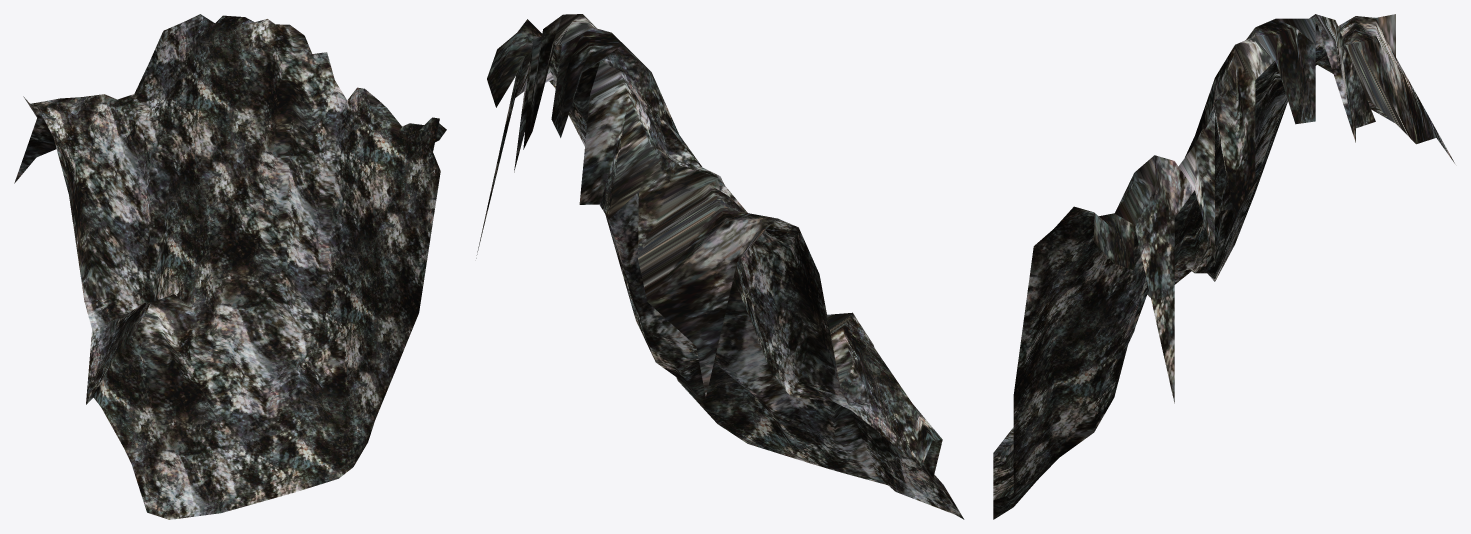
Rendered from OVERHILL_A_01_OBJECT11.fbx.
The picture shows the model from 3 angles, left to right: view 1: azimuth 30°, elevation 25°; view 2: azimuth 150°, elevation 25°; view 3: azimuth 270°, elevation 25°; orthographic projection. The views are drawn at different scales.
Parts seen in each view (by area): view 1: OVERHILL_A_01_OBJECT11; view 2: OVERHILL_A_01_OBJECT11; view 3: OVERHILL_A_01_OBJECT11.
Part boxes in pixels (x1,y1,x2,y2): OVERHILL_A_01_OBJECT11: (14, 14, 446, 519); OVERHILL_A_01_OBJECT11: (476, 14, 964, 519); OVERHILL_A_01_OBJECT11: (993, 14, 1455, 519).
Size of the model in its own units: 314547 by 344030 by 286700.
Materials: 1 (1 with a texture image).
